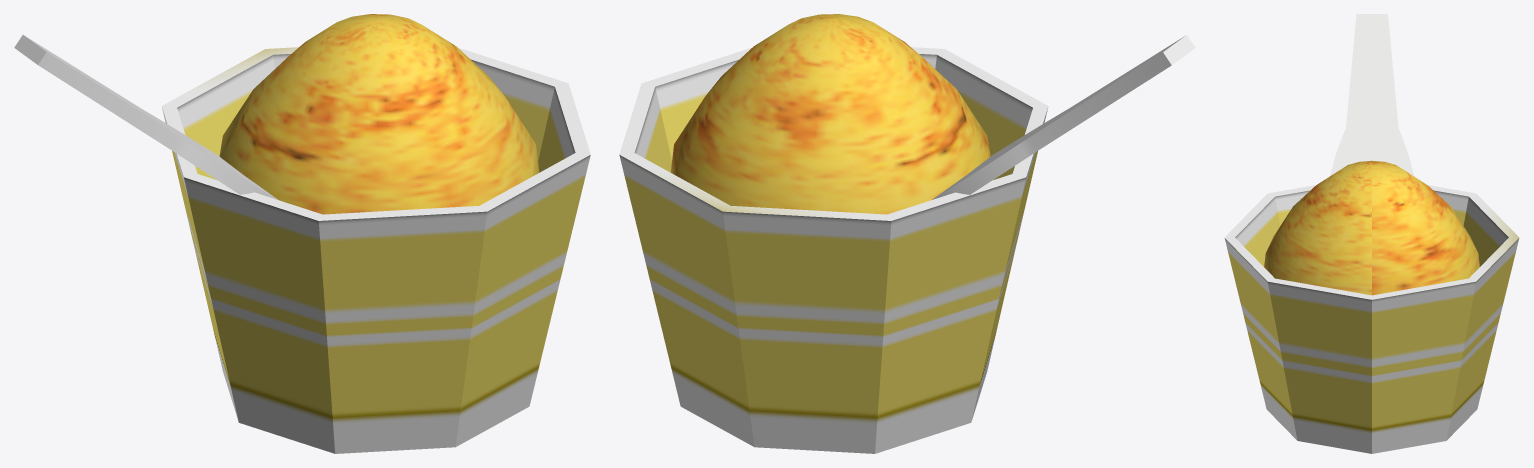
File: IceCream_CupC.fbx
3 views of the same model, side by side, from view 1: azimuth 30°, elevation 25°; view 2: azimuth 150°, elevation 25°; view 3: azimuth 270°, elevation 25° (orthographic). The views are drawn at different scales.
Parts seen in each view (by area): view 1: IceCupC, IceCream_CupC, IceCreamSpoonC; view 2: IceCupC, IceCream_CupC, IceCreamSpoonC; view 3: IceCupC, IceCream_CupC, IceCreamSpoonC.
Part boxes in pixels (x1,y1,x2,y2): IceCupC: [161, 47, 590, 453]; IceCream_CupC: [219, 14, 539, 214]; IceCreamSpoonC: [14, 35, 277, 199]; IceCupC: [619, 47, 1048, 453]; IceCream_CupC: [670, 14, 990, 214]; IceCreamSpoonC: [932, 35, 1195, 199]; IceCupC: [1224, 185, 1519, 453]; IceCream_CupC: [1264, 160, 1479, 295]; IceCreamSpoonC: [1330, 14, 1414, 176].
Size of the model in its own units: 163 by 123 by 115.
